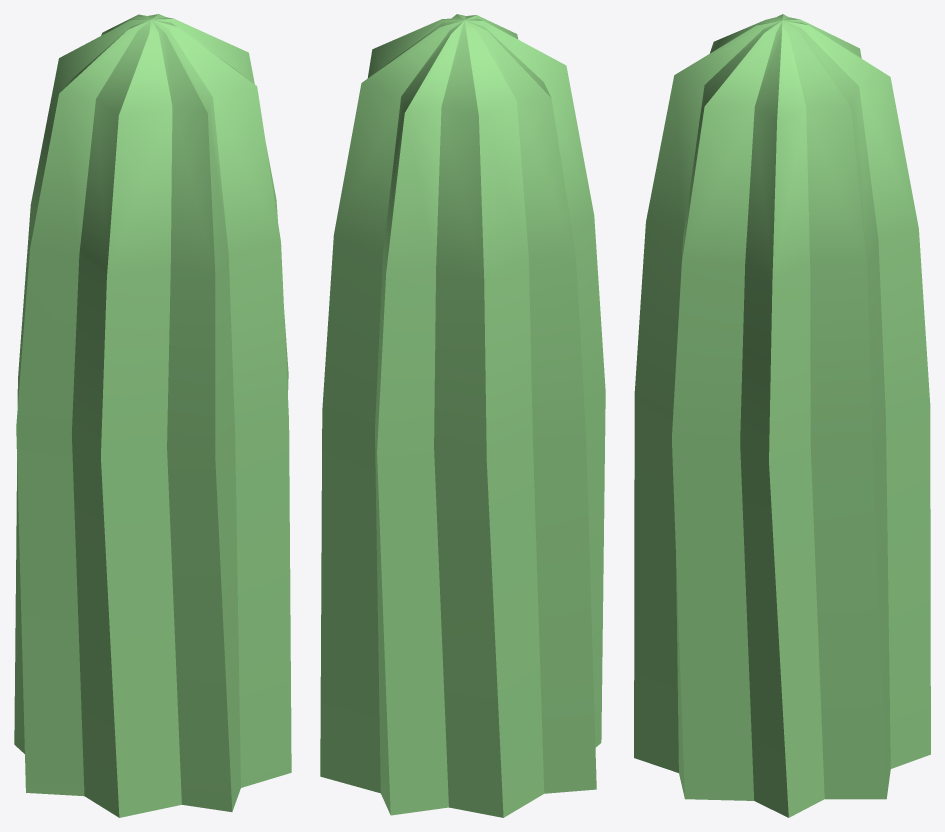
Rendered from Cactus.fbx.
3 renders of one model, left to right at view 1: azimuth 30°, elevation 25°; view 2: azimuth 150°, elevation 25°; view 3: azimuth 270°, elevation 25°, orthographic.
Parts seen in each view (by area): view 1: Cactus_LOD0; view 2: Cactus_LOD0; view 3: Cactus_LOD0.
Boxes of the visible parts, x1,y1,x2,y2 form: Cactus_LOD0: (14,14,291,817); Cactus_LOD0: (320,14,605,817); Cactus_LOD0: (634,14,930,817).
Size of what is drawn, in the model's own units: 0.2821 by 0.7688 by 0.2817.
